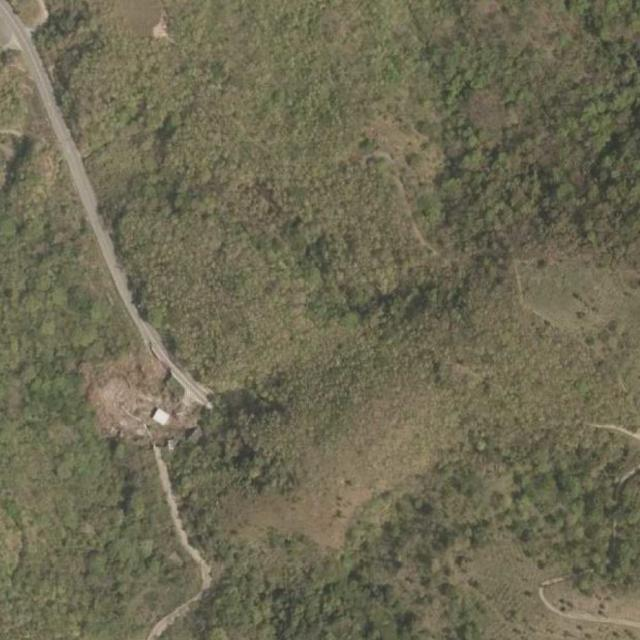landslide: (83, 351, 200, 446)
